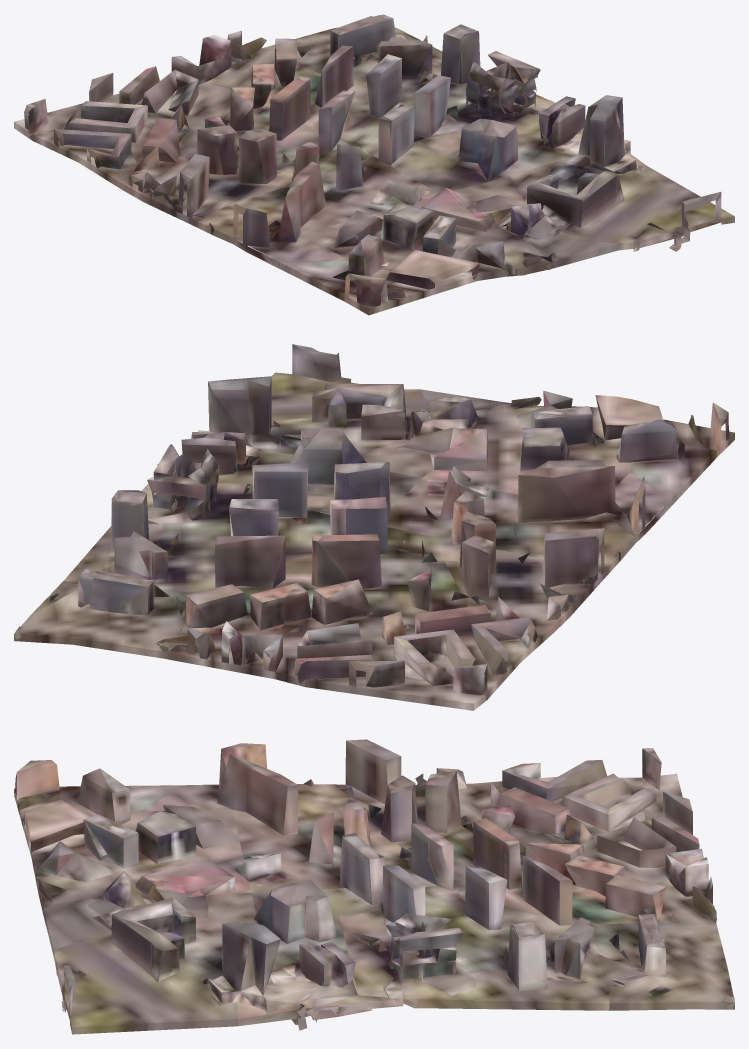
3 renders of one model, top to bottom at view 1: azimuth 30°, elevation 25°; view 2: azimuth 150°, elevation 25°; view 3: azimuth 270°, elevation 25°, orthographic. The views are drawn at different scales.
Parts seen in each view (by area): view 1: Mesh_0; view 2: Mesh_0; view 3: Mesh_0.
Part boxes in pixels (bbox=[...]): Mesh_0: bbox=[14, 14, 734, 315]; Mesh_0: bbox=[14, 344, 734, 710]; Mesh_0: bbox=[14, 739, 734, 1034].
Bounding box in the file's own units: 532 × 96.58 × 659.
2 materials, 2 textured.
